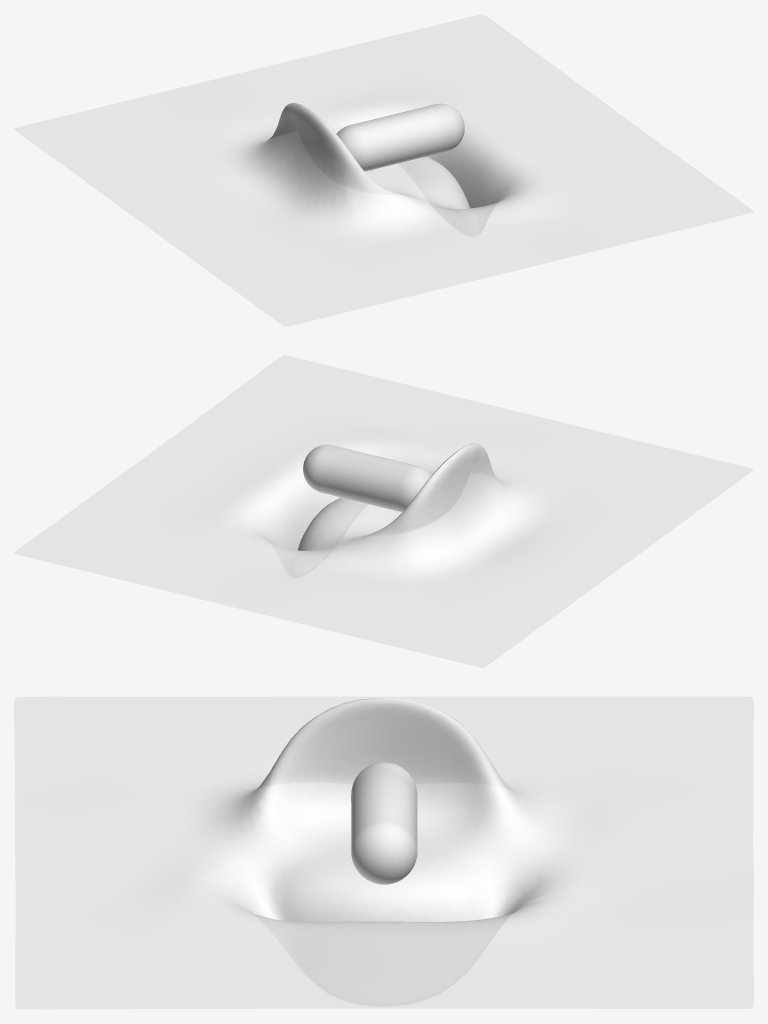
The model's file is tic_tac_uap_ufo_with_warp_bubble.glb.
3 views of the same model, one above another, from view 1: azimuth 30°, elevation 25°; view 2: azimuth 150°, elevation 25°; view 3: azimuth 270°, elevation 25° (orthographic). The views are drawn at different scales.
Parts seen in each view (by area): view 1: Object_2, Object_3; view 2: Object_2, Object_3; view 3: Object_2, Object_3.
Part boxes in pixels (x1,y1,x2,y2): Object_2: [14, 14, 753, 326]; Object_3: [336, 103, 464, 171]; Object_2: [14, 355, 753, 667]; Object_3: [303, 444, 431, 512]; Object_2: [14, 696, 753, 1009]; Object_3: [351, 762, 417, 884].
Bounding box in the file's own units: 282 × 88.89 × 282.
Materials: 1 (1 with a texture image).
